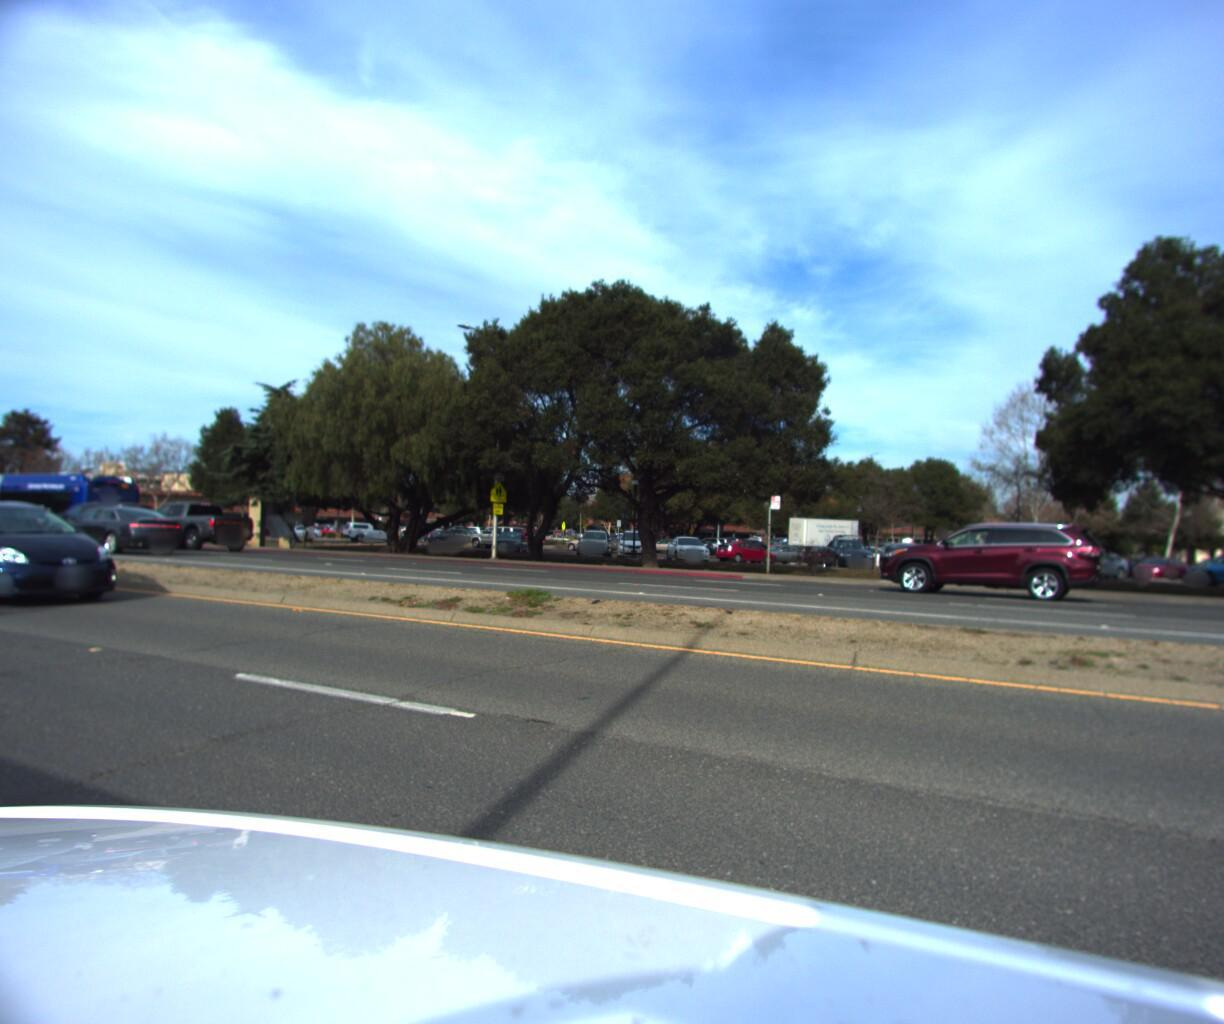bus: (0, 477, 160, 552)
car: (878, 519, 1112, 604), (0, 499, 142, 615), (35, 507, 196, 561), (117, 503, 262, 560), (37, 501, 177, 555), (0, 497, 11, 552)
